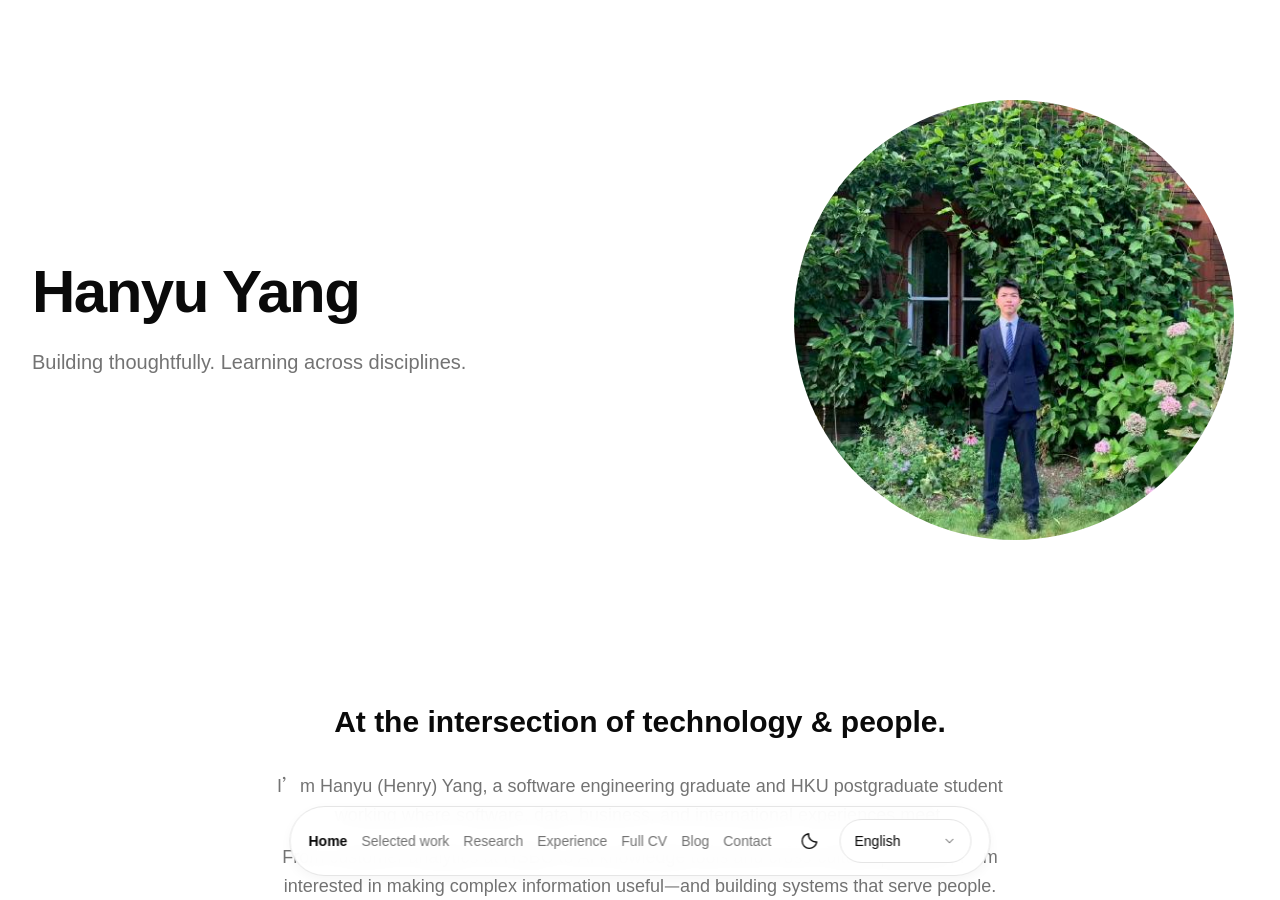
Scenario: display preferences › keeps the app and preference controls usable when storage is denied
Expected: the heading "Hanyu Yang" is shown, left=32, top=258, right=359, bottom=325
Click the button named "Switch to dark theme".
click(810, 841)  # box left=788, top=819, right=832, bottom=863
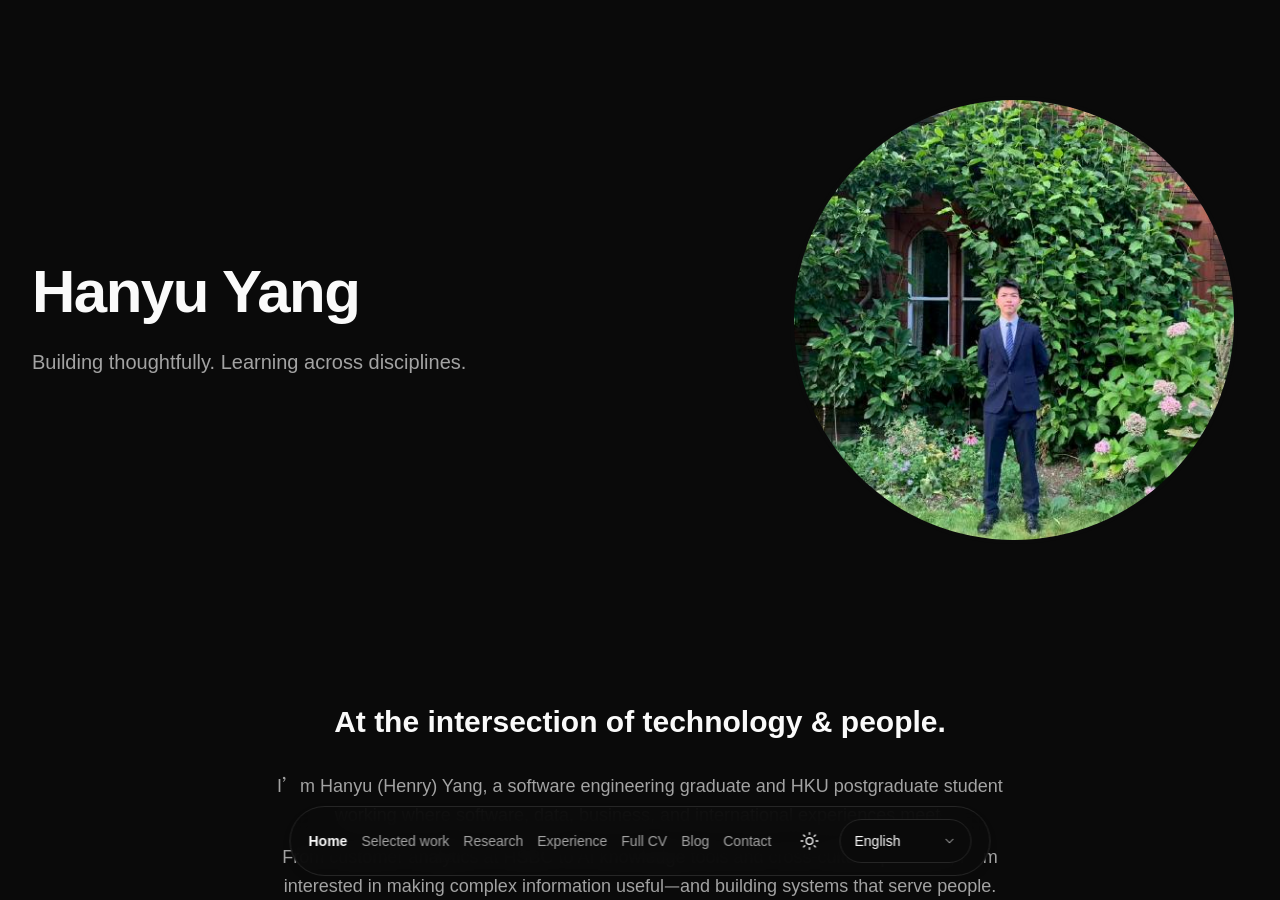
Click the dropdown.
click(906, 841)  # box left=840, top=819, right=972, bottom=863
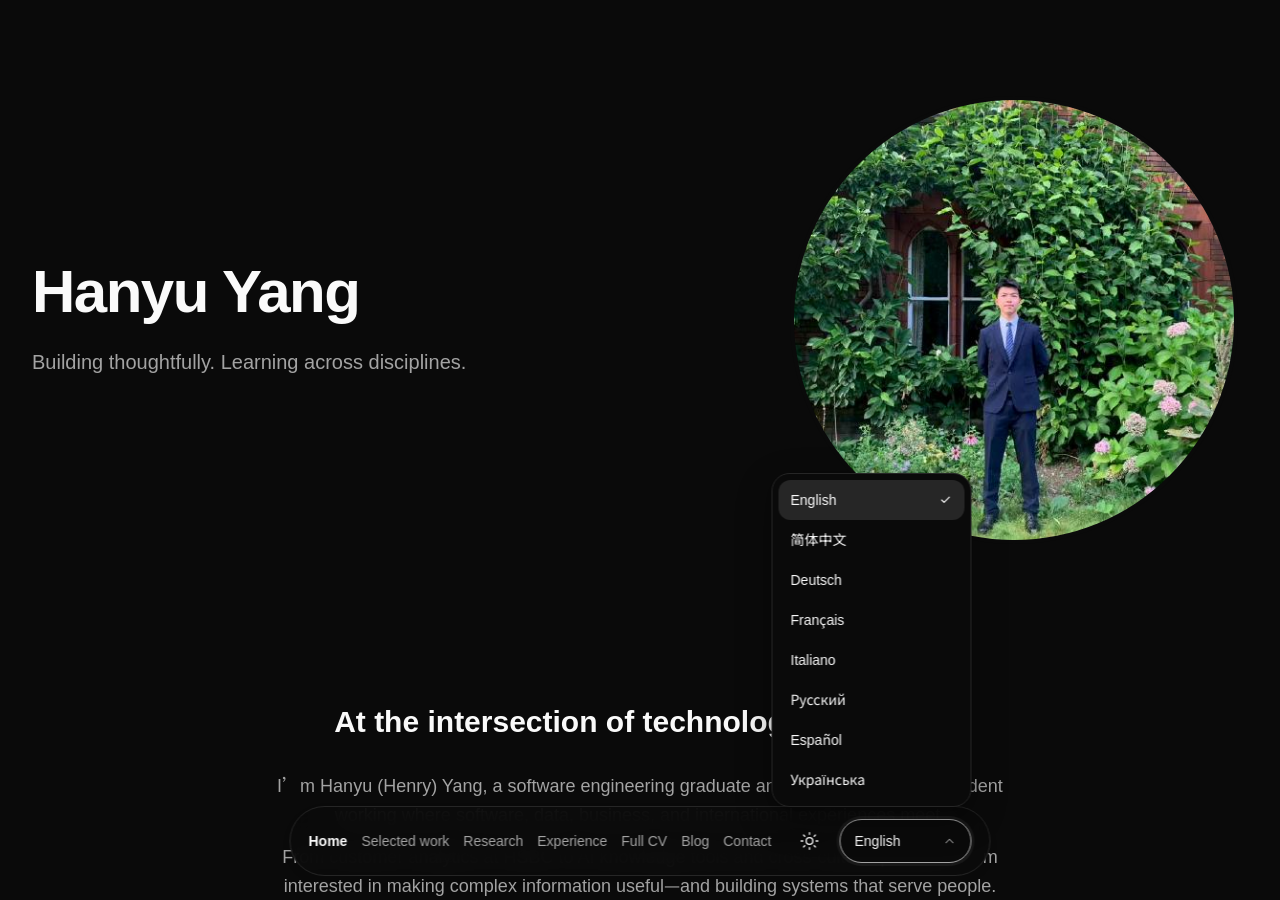
Click the option "简体中文".
click(818, 540)  # box left=790, top=532, right=846, bottom=548
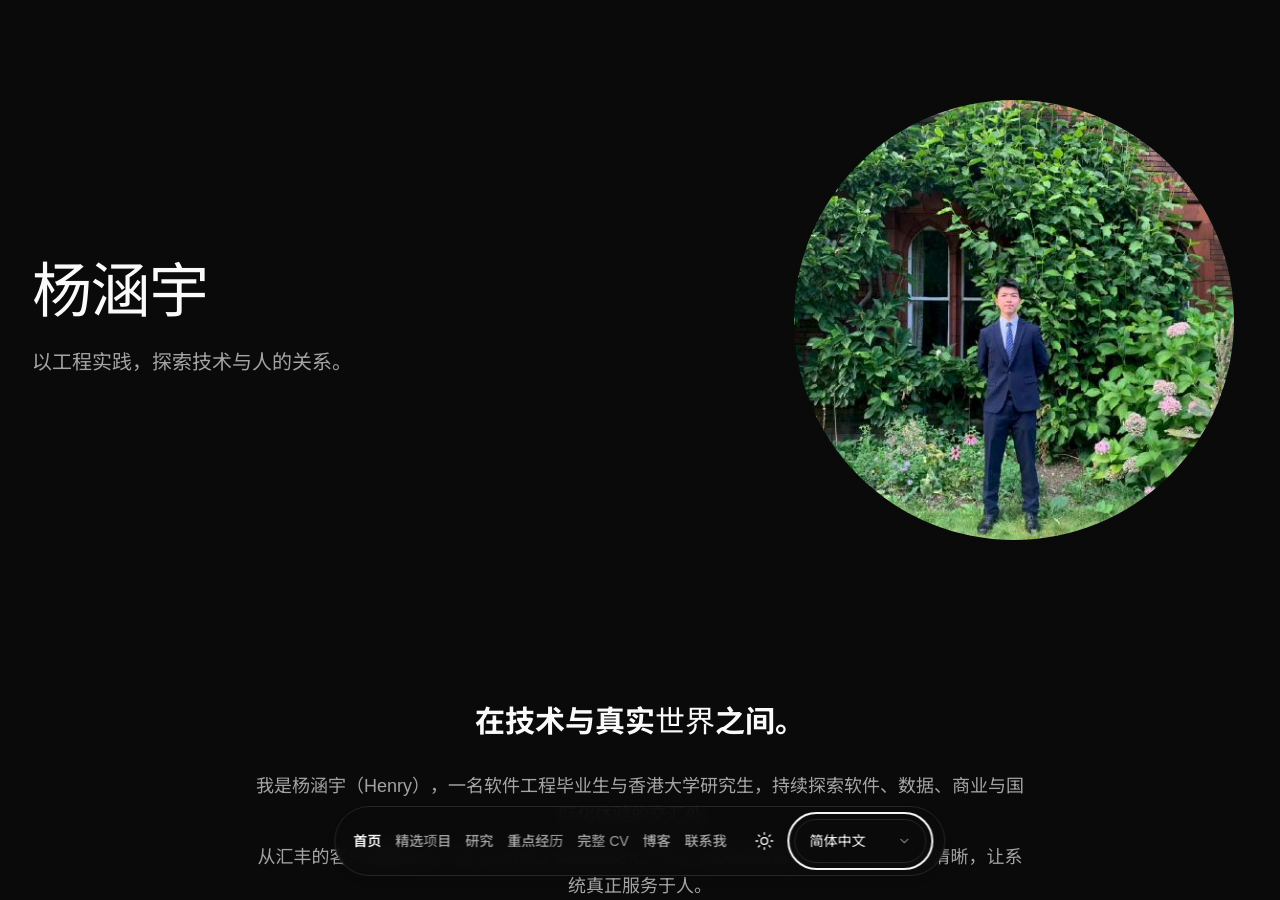
Expected: the heading "杨涵宇" is shown, left=32, top=258, right=208, bottom=325
